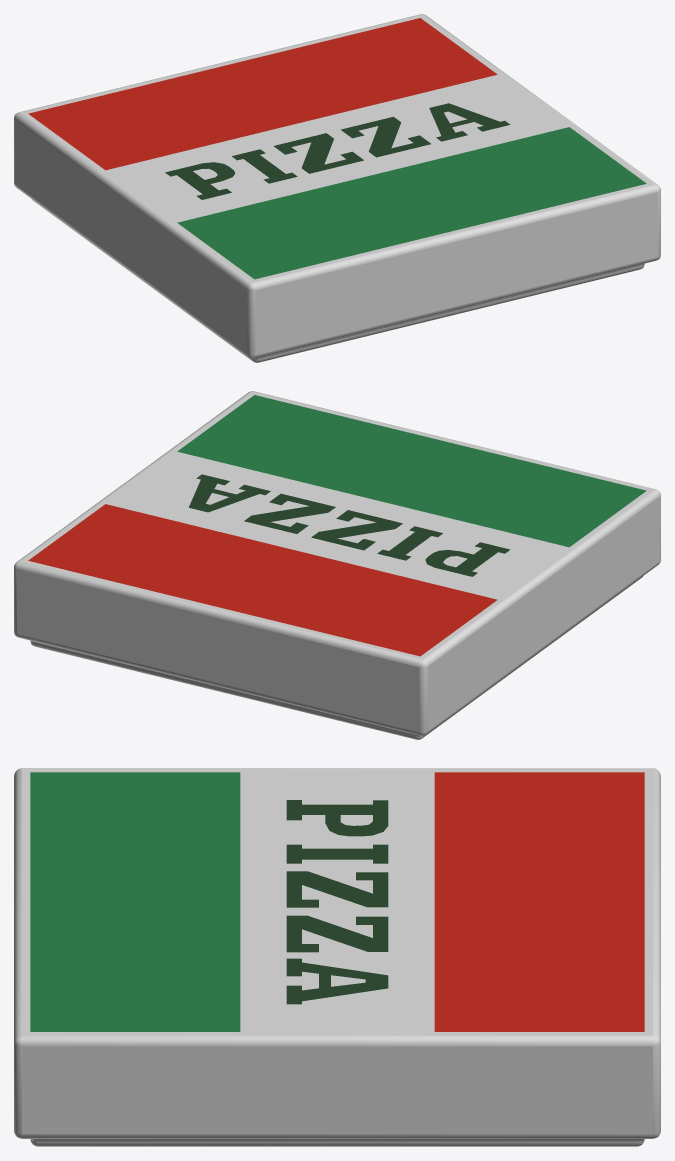
Rendered from pizza.fbx.
The picture shows the model from 3 angles, top to bottom: view 1: azimuth 30°, elevation 25°; view 2: azimuth 150°, elevation 25°; view 3: azimuth 270°, elevation 25°; orthographic projection. The views are drawn at different scales.
Visible parts, largest first — view 1: 00001_3068bp78.dat; view 2: 00001_3068bp78.dat; view 3: 00001_3068bp78.dat.
Boxes of the visible parts, x1,y1,x2,y2 form: 00001_3068bp78.dat: (14, 14, 660, 362); 00001_3068bp78.dat: (14, 391, 660, 739); 00001_3068bp78.dat: (14, 768, 660, 1146).
Size of the model in its own units: 200 by 39.92 by 200.
